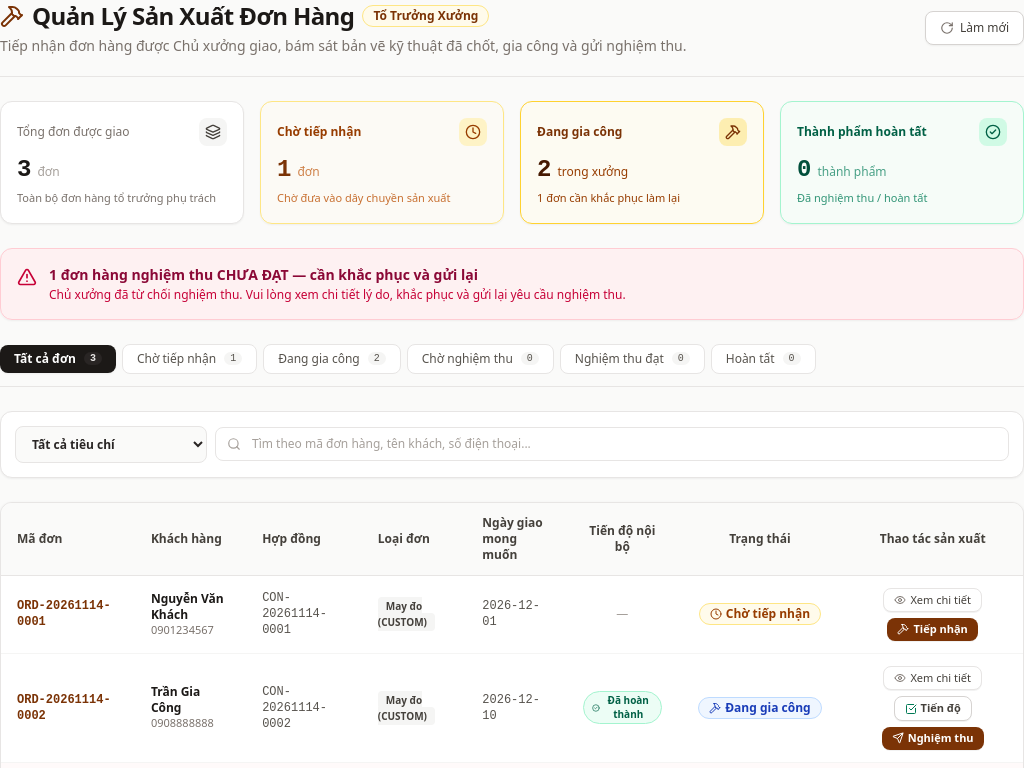
Test: LeaderOrdersPage Component › mở modal chi tiết khi nhấn Xem chi tiết và hiển thị thông số D x R x C cm
Click the button "Xem chi tiết" in the row of "ORD-20261114-0001" at (933, 600), box top-left (883, 588), bottom-right (982, 612)
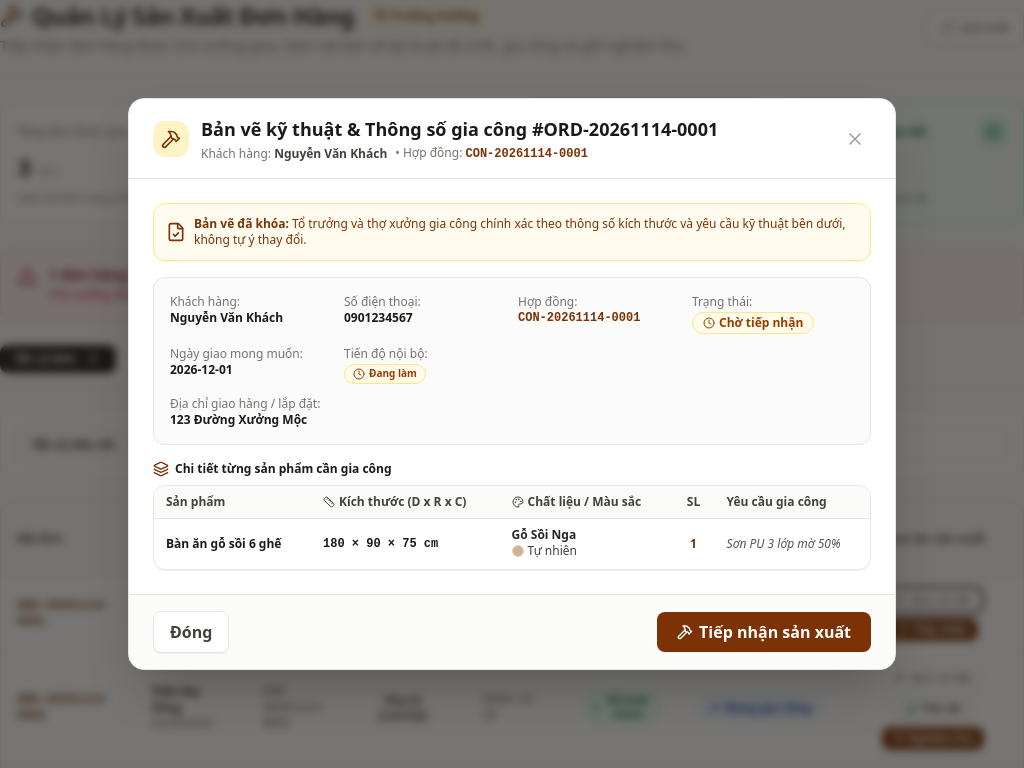
Result: the heading "Bản vẽ kỹ thuật & Thông số gia công #ORD-20261114-0001" is shown at top-left (201, 115), bottom-right (718, 143)
Result: the text "Bản vẽ đã khóa:" is shown at top-left (194, 215), bottom-right (289, 232)
Result: the text "180 × 90 × 75 cm" is shown at top-left (311, 518), bottom-right (500, 569)
